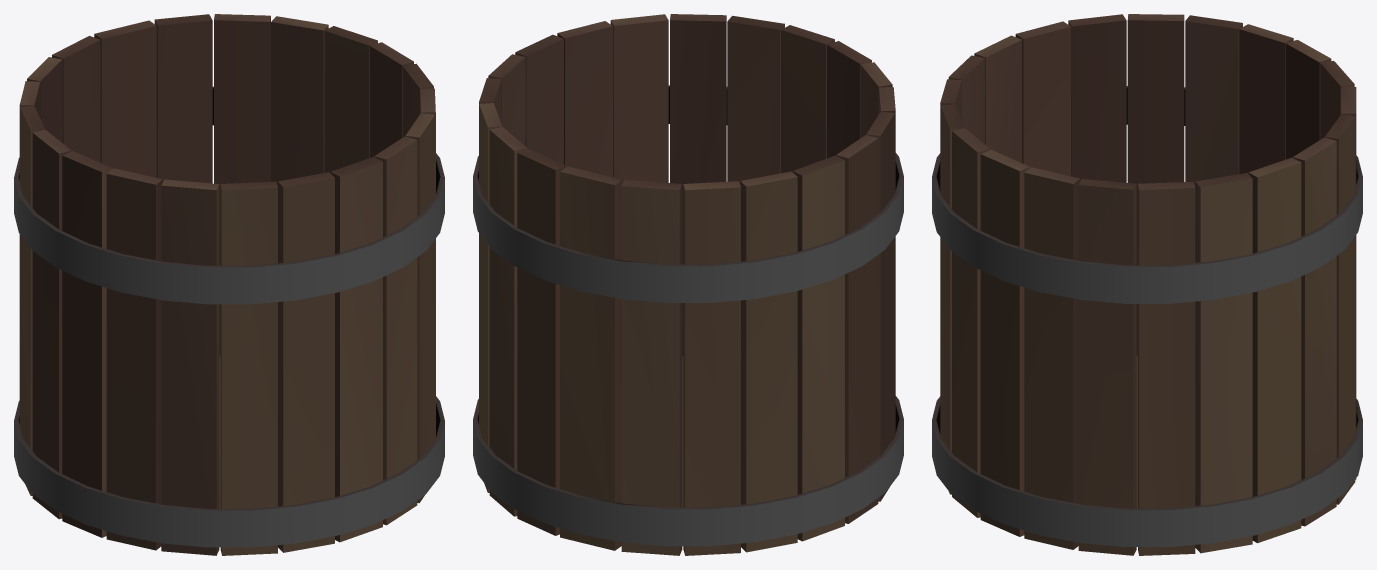
3 renders of one model, left to right at view 1: azimuth 30°, elevation 25°; view 2: azimuth 150°, elevation 25°; view 3: azimuth 270°, elevation 25°, orthographic.
Visible parts, largest first — view 1: base.466; view 2: base.466; view 3: base.466.
Boxes of the visible parts, bbox=[...] form: base.466: bbox=[14, 14, 444, 555]; base.466: bbox=[473, 14, 903, 555]; base.466: bbox=[932, 14, 1362, 555].
Size of the model in its own units: 0.4973 by 0.4685 by 0.5.
